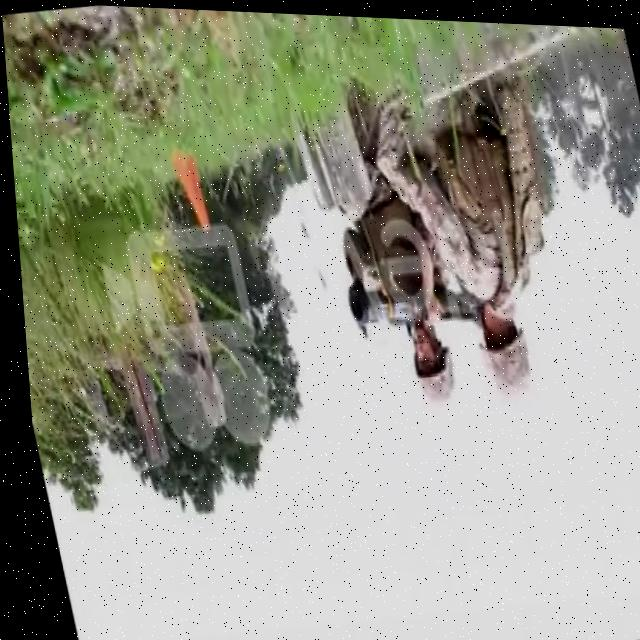rocket: (338, 262, 465, 333)
